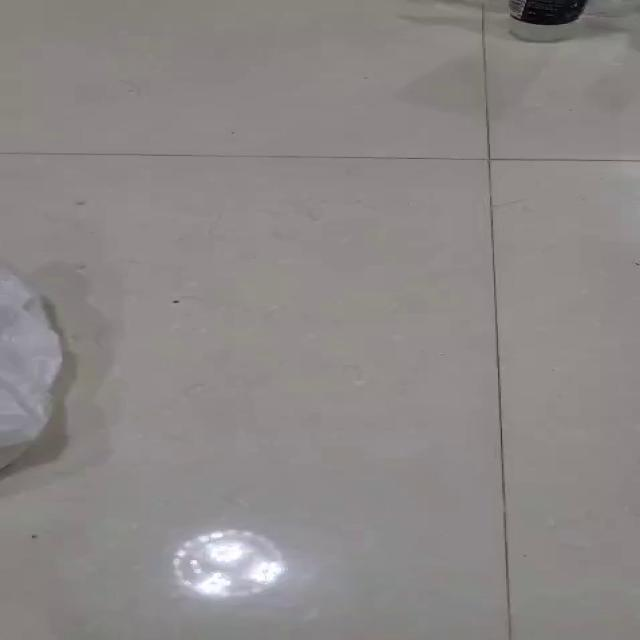plastic: (0, 265, 64, 469), (169, 528, 288, 598)
